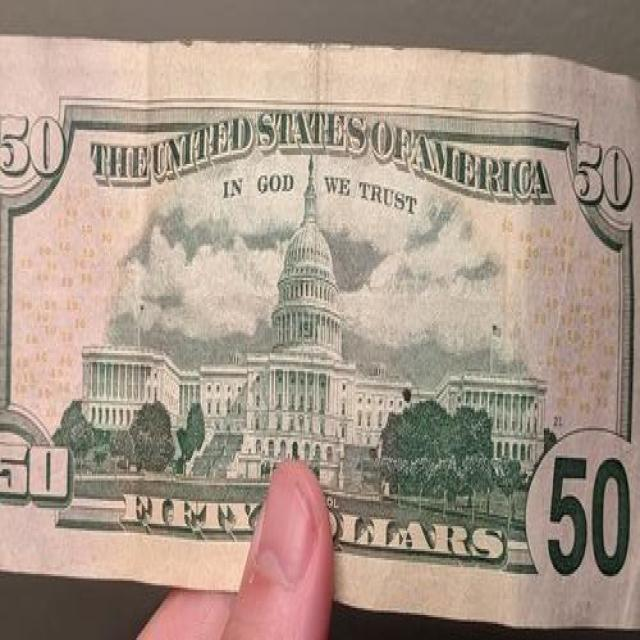50-Back: (0, 34, 640, 615)
